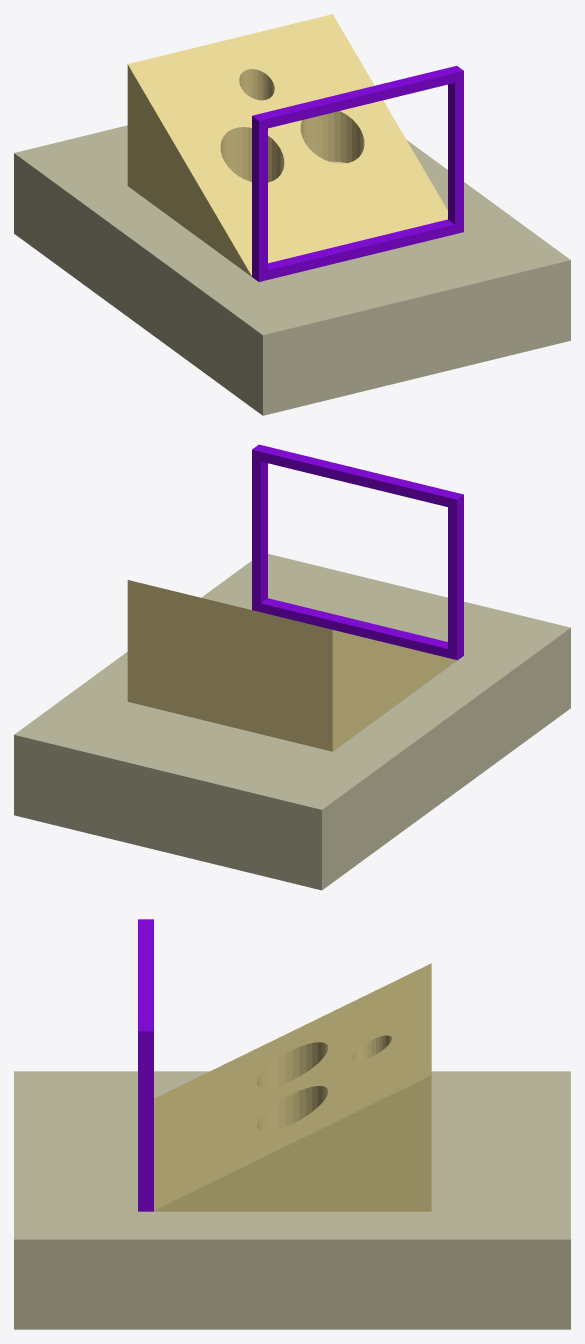
Rendered from Skeeball.dae.
3 renders of one model, top to bottom at view 1: azimuth 30°, elevation 25°; view 2: azimuth 150°, elevation 25°; view 3: azimuth 270°, elevation 25°, orthographic. The views are drawn at different scales.
Visible parts, largest first — view 1: Cube.001; view 2: Cube.001; view 3: Cube.001.
Boxes of the visible parts, x1,y1,x2,y2 form: Cube.001: (14,14,570,415); Cube.001: (14,444,570,890); Cube.001: (14,919,570,1329).
Size of the model in its own units: 1.52 by 2.13 by 1.14.
